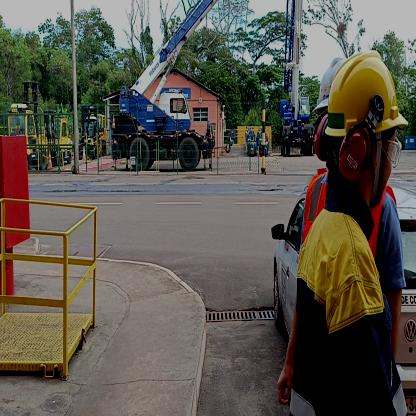C_eletrica: (290, 219, 402, 416)
Capacete: (322, 56, 407, 134)
